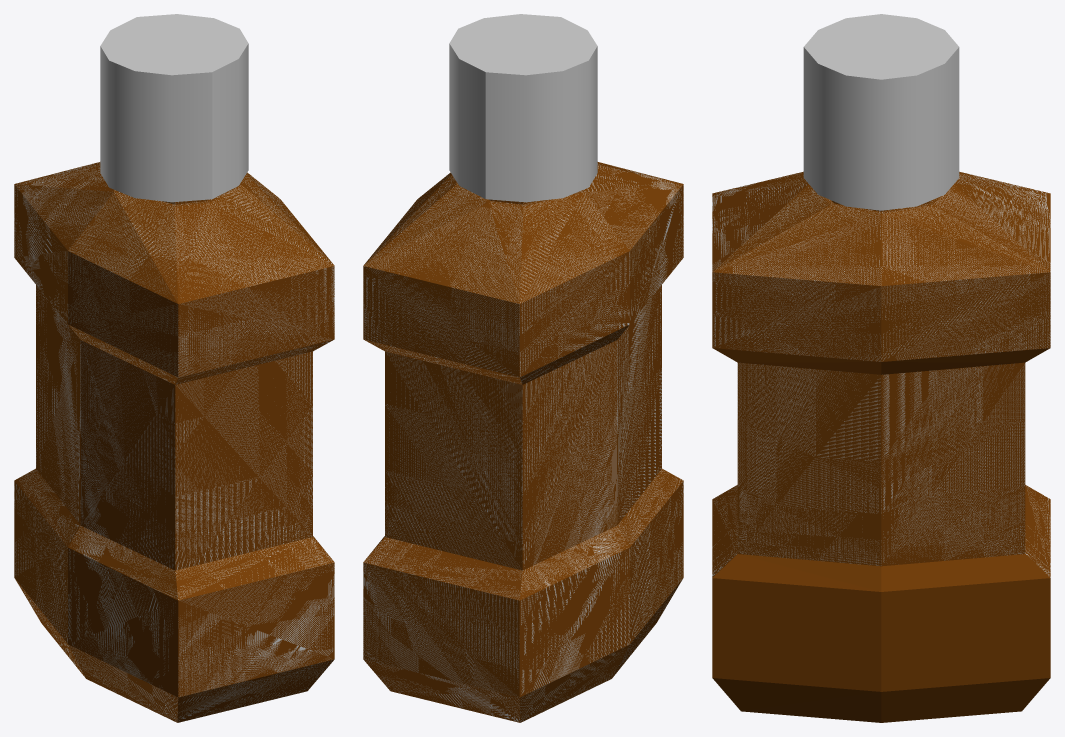
The picture shows the model from 3 angles, left to right: view 1: azimuth 30°, elevation 25°; view 2: azimuth 150°, elevation 25°; view 3: azimuth 270°, elevation 25°; orthographic projection. The views are drawn at different scales.
Visible parts, largest first — view 1: mesh1_mesh1-geometry, mesh2_mesh2-geometry; view 2: mesh1_mesh1-geometry, mesh2_mesh2-geometry; view 3: mesh1_mesh1-geometry, mesh2_mesh2-geometry.
Part boxes in pixels (x1,y1,x2,y2): mesh1_mesh1-geometry: (14,162,334,722); mesh2_mesh2-geometry: (100,14,248,202); mesh1_mesh1-geometry: (363,162,683,722); mesh2_mesh2-geometry: (449,14,597,202); mesh1_mesh1-geometry: (712,171,1050,722); mesh2_mesh2-geometry: (803,14,959,210).
Bounding box in the file's own units: 0.3104 × 0.8552 × 0.4151.
